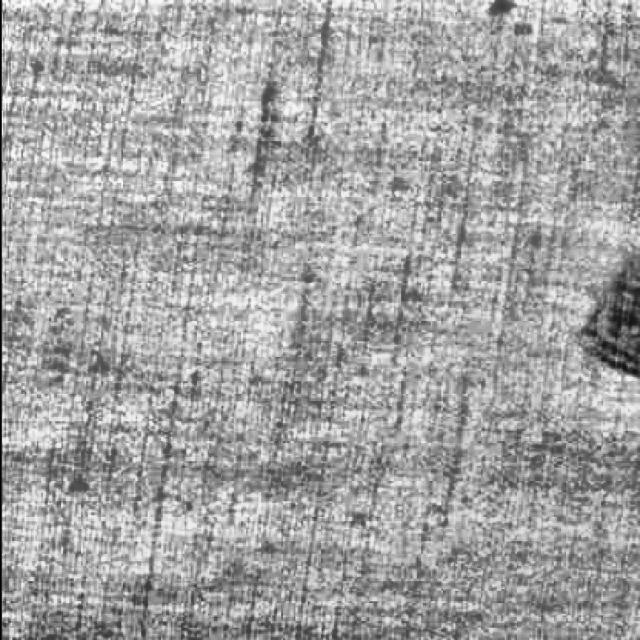oil_spot: (569, 243, 640, 399)
